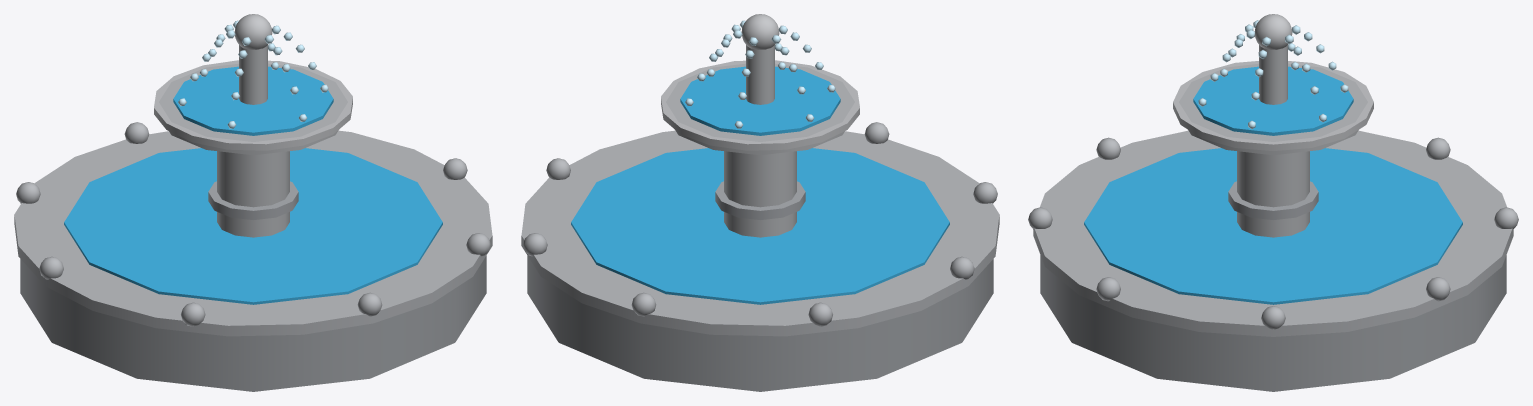
Rendered from Fountain.glb.
The picture shows the model from 3 angles, left to right: view 1: azimuth 30°, elevation 25°; view 2: azimuth 150°, elevation 25°; view 3: azimuth 270°, elevation 25°; orthographic projection.
Visible parts, largest first — view 1: Fountain; view 2: Fountain; view 3: Fountain.
Part boxes in pixels (x1,y1,x2,y2): Fountain: (14,14,492,391); Fountain: (521,14,999,391); Fountain: (1028,14,1518,391).
Bounding box in the file's own units: 6.74 × 4.21 × 6.74.
